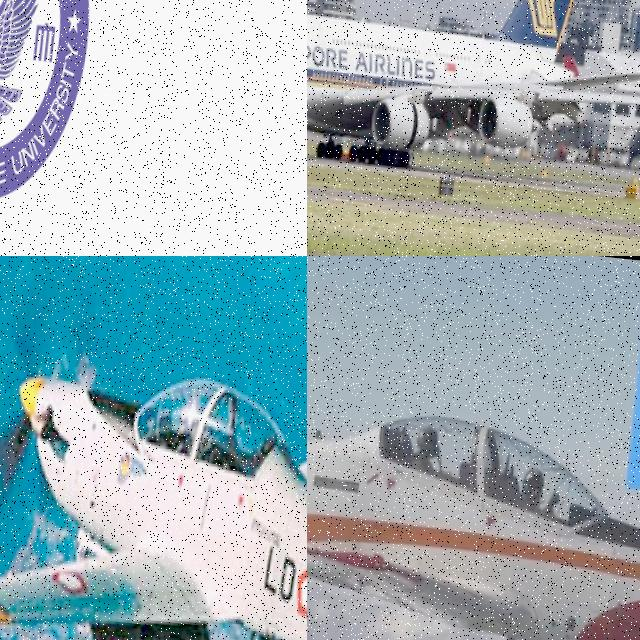A380: (307, 0, 640, 180)
KAU_Marker: (0, 0, 105, 210)
KT-1: (0, 326, 307, 640), (307, 364, 640, 640)
